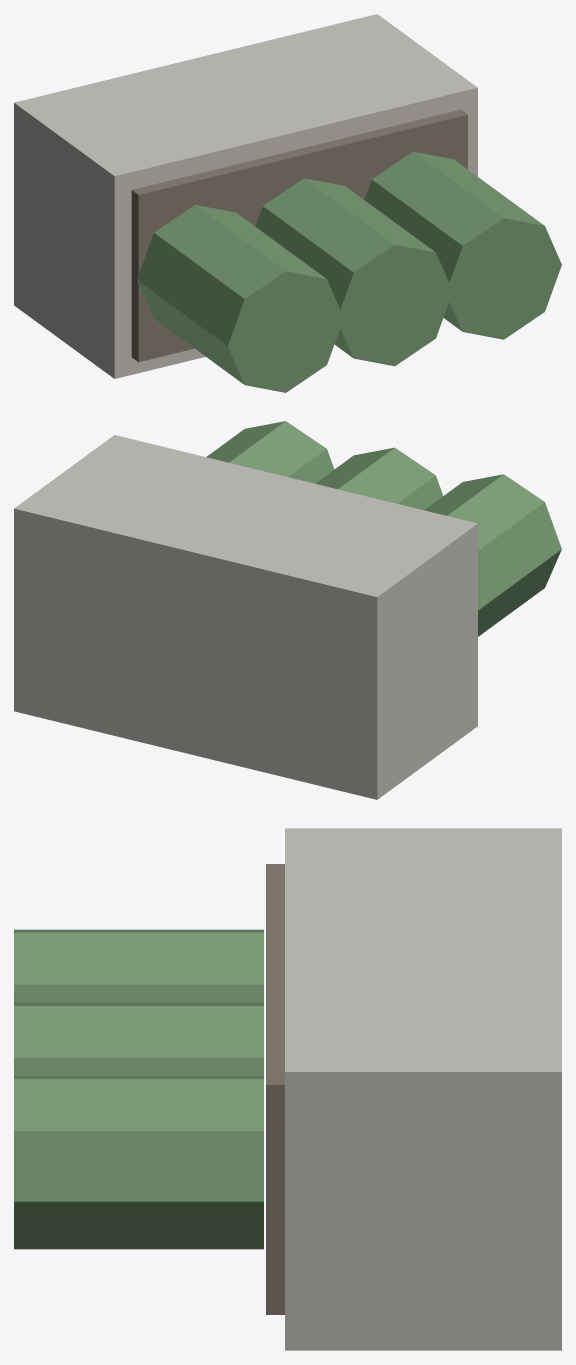
The model's file is street_planter.glb.
3 renders of one model, top to bottom at view 1: azimuth 30°, elevation 25°; view 2: azimuth 150°, elevation 25°; view 3: azimuth 270°, elevation 25°, orthographic. The views are drawn at different scales.
Visible parts, largest first — view 1: 0000_Plant_container, 0002_Shrub, 0003_Shrub, 0004_Shrub, 0001_Soil; view 2: 0000_Plant_container, 0002_Shrub, 0004_Shrub, 0003_Shrub; view 3: 0000_Plant_container, 0004_Shrub, 0002_Shrub, 0003_Shrub, 0001_Soil.
Boxes of the visible parts, x1,y1,x2,y2 form: 0000_Plant_container: [14, 14, 477, 378]; 0002_Shrub: [137, 205, 343, 392]; 0003_Shrub: [255, 178, 452, 366]; 0004_Shrub: [364, 151, 561, 339]; 0001_Soil: [131, 109, 467, 362]; 0000_Plant_container: [14, 435, 477, 799]; 0002_Shrub: [424, 474, 561, 636]; 0004_Shrub: [206, 421, 334, 483]; 0003_Shrub: [315, 447, 443, 510]; 0000_Plant_container: [285, 828, 561, 1350]; 0004_Shrub: [14, 1076, 263, 1249]; 0002_Shrub: [14, 929, 263, 1002]; 0003_Shrub: [14, 1002, 263, 1075]; 0001_Soil: [266, 864, 284, 1314].
Bounding box in the file's own units: 1.5 × 0.8 × 1.42.
